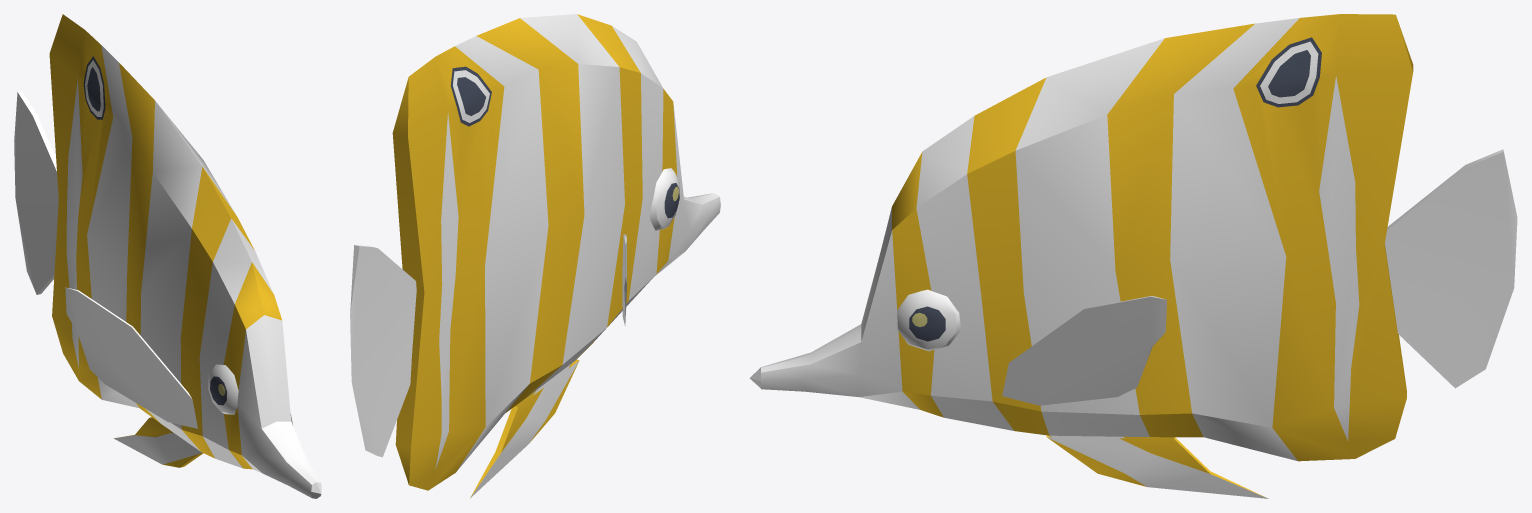
3 views of the same model, side by side, from view 1: azimuth 30°, elevation 25°; view 2: azimuth 150°, elevation 25°; view 3: azimuth 270°, elevation 25° (orthographic). The views are drawn at different scales.
Visible parts, largest first — view 1: Fish_ButterflyFish; view 2: Fish_ButterflyFish; view 3: Fish_ButterflyFish.
Boxes of the visible parts, left/top/right/bottom form: Fish_ButterflyFish: left=14, top=14, right=321, bottom=498; Fish_ButterflyFish: left=350, top=14, right=720, bottom=498; Fish_ButterflyFish: left=749, top=14, right=1517, bottom=498.
Bounding box in the file's own units: 10.13 × 21.13 × 30.33.
